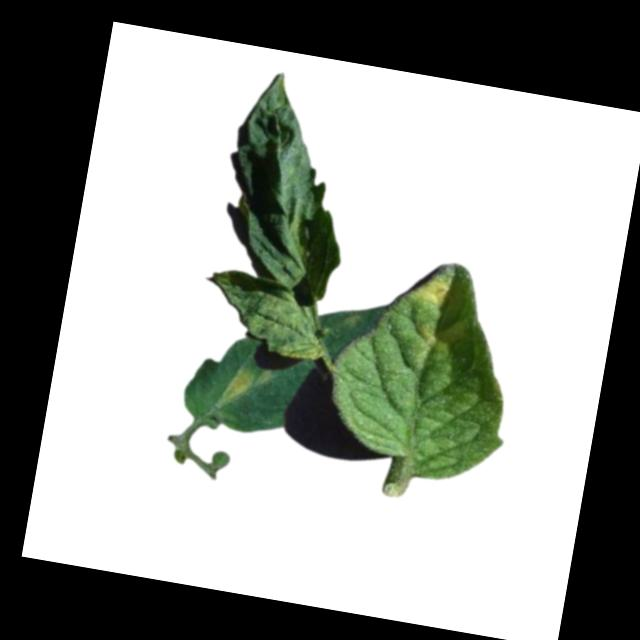Leaf_Mold: (408, 271, 451, 311), (218, 361, 255, 406)
